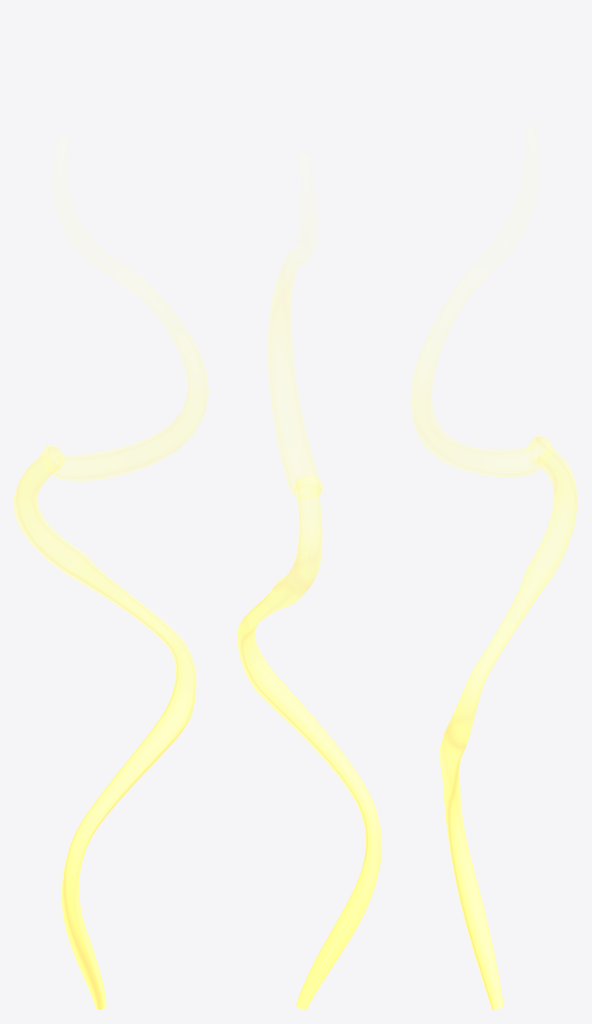
The model's file is strand_b_junction.glb.
3 renders of one model, left to right at view 1: azimuth 30°, elevation 25°; view 2: azimuth 150°, elevation 25°; view 3: azimuth 270°, elevation 25°, orthographic.
Size of the model in its own units: 1.3 by 9.03 by 1.37.
